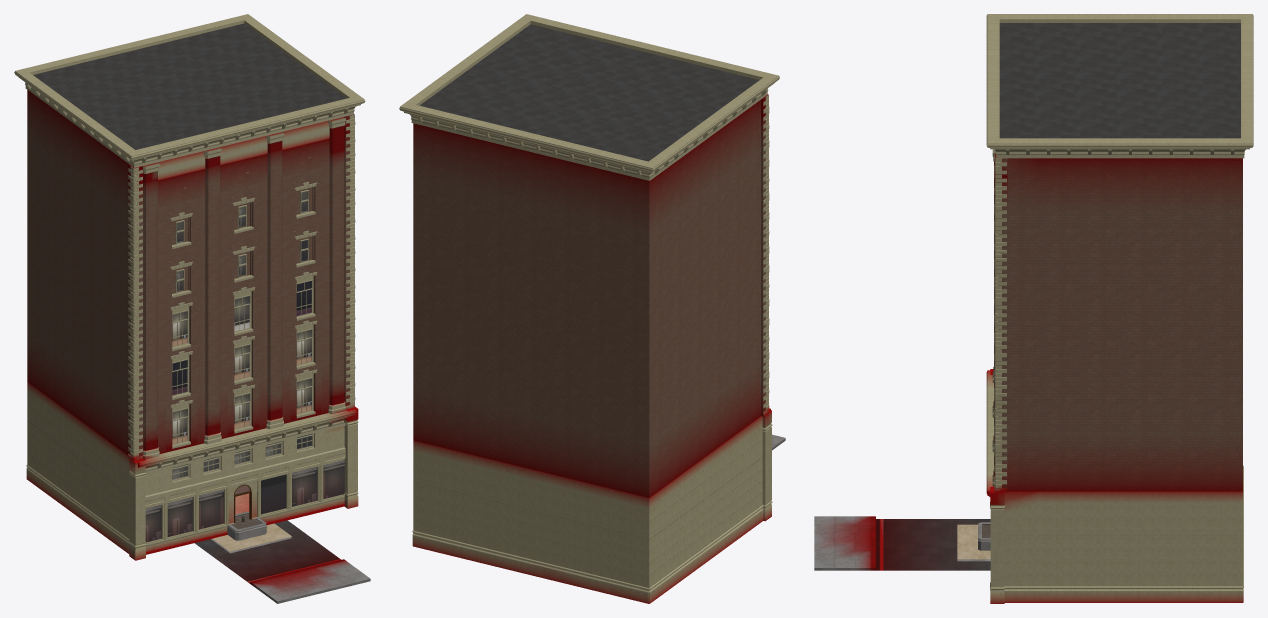
File: city.glb
3 renders of one model, left to right at view 1: azimuth 30°, elevation 25°; view 2: azimuth 150°, elevation 25°; view 3: azimuth 270°, elevation 25°, orthographic. The views are drawn at different scales.
Parts seen in each view (by area): view 1: Building_Medium_2.001, Street_4Lane, Floor_4x4, Prop_Planter_Single; view 2: Building_Medium_2.001; view 3: Building_Medium_2.001, Street_4Lane, Floor_4x4.
Boxes of the visible parts, box(x1,y1,x2,y2) form: Building_Medium_2.001: box(14, 14, 365, 560); Street_4Lane: box(194, 520, 370, 603); Floor_4x4: box(211, 523, 291, 553); Prop_Planter_Single: box(227, 511, 266, 540); Building_Medium_2.001: box(399, 14, 779, 603); Building_Medium_2.001: box(986, 14, 1253, 603); Street_4Lane: box(814, 516, 990, 570); Floor_4x4: box(957, 524, 990, 561).
Bounding box in the file's own units: 15.06 × 25.15 × 21.49.
13 materials, 12 textured.
